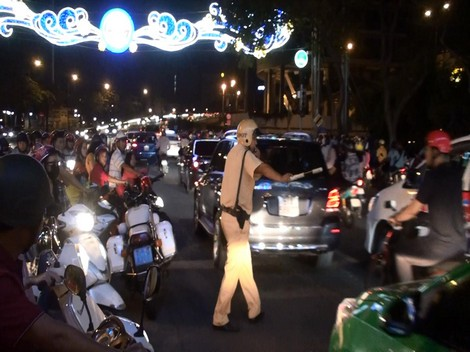police: (201, 121, 331, 330)
